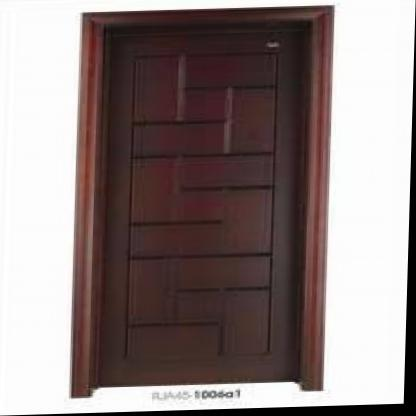door: (74, 7, 339, 397)
